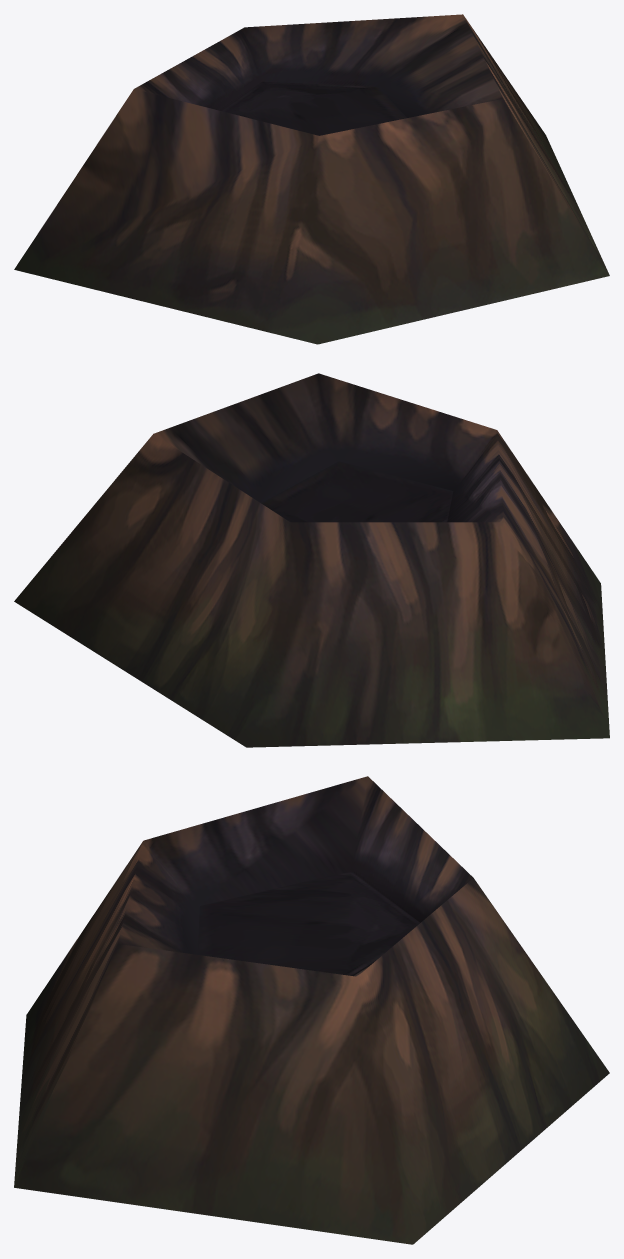
File: annonciationHandfbx.fbx
3 views of the same model, one above another, from view 1: azimuth 30°, elevation 25°; view 2: azimuth 150°, elevation 25°; view 3: azimuth 270°, elevation 25° (orthographic). The views are drawn at different scales.
Parts seen in each view (by area): view 1: zombie_hand_09; view 2: zombie_hand_09; view 3: zombie_hand_09.
Part boxes in pixels (x1=…): zombie_hand_09: x1=14, y1=14, x2=609, y2=344; zombie_hand_09: x1=14, y1=373, x2=609, y2=747; zombie_hand_09: x1=14, y1=776, x2=609, y2=1244.
Bounding box in the file's own units: 46.38 × 13.93 × 35.49.
